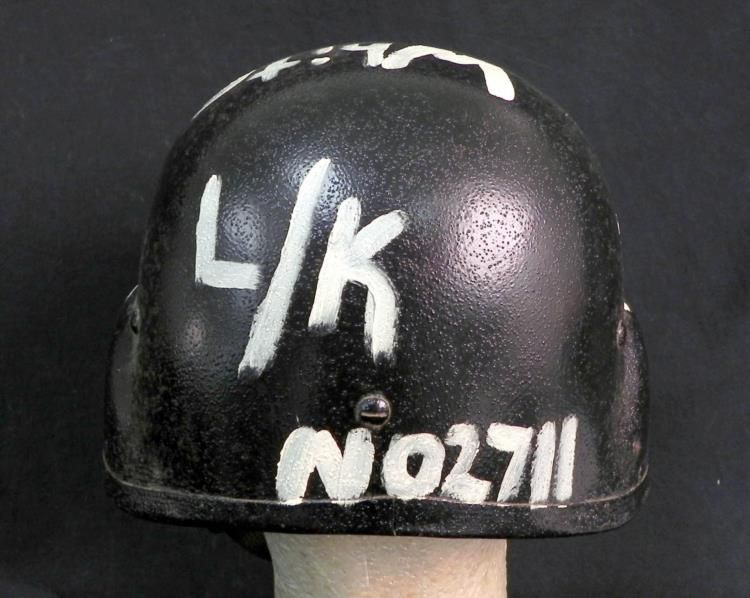with_helmet: (103, 39, 655, 536)
